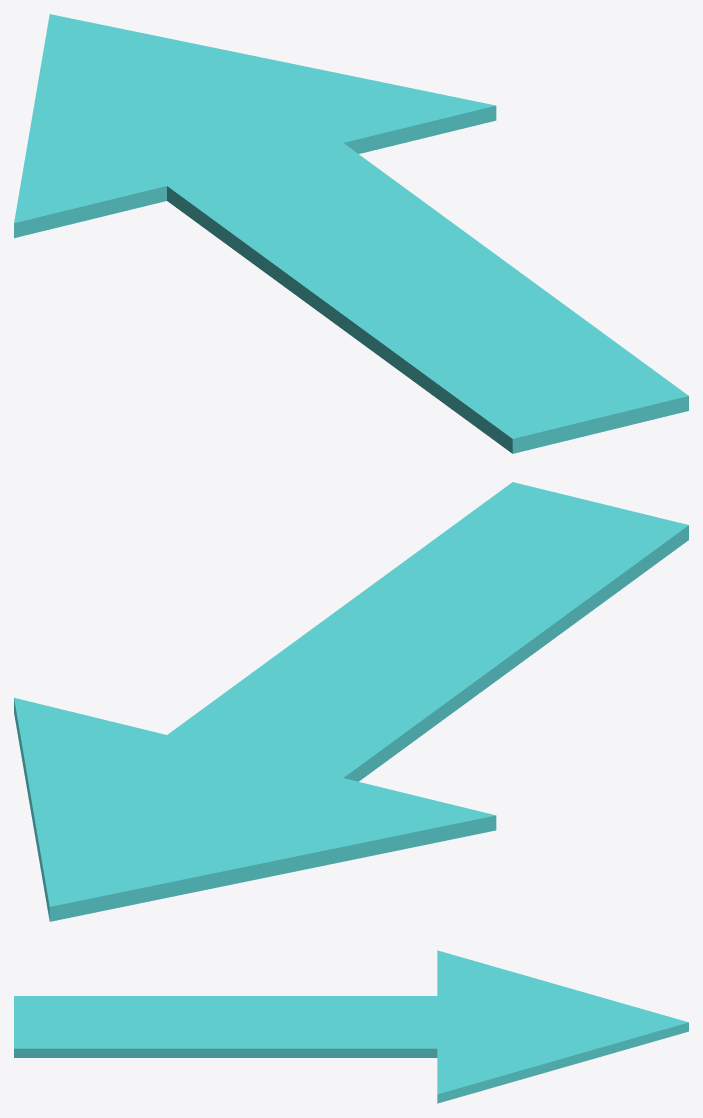
The model's file is OutputArrow.fbx.
3 views of the same model, one above another, from view 1: azimuth 30°, elevation 25°; view 2: azimuth 150°, elevation 25°; view 3: azimuth 270°, elevation 25° (orthographic). The views are drawn at different scales.
Visible parts, largest first — view 1: Arrow.001; view 2: Arrow.001; view 3: Arrow.001.
Boxes of the visible parts, x1=… form: Arrow.001: x1=14, y1=14, x2=688, y2=453; Arrow.001: x1=14, y1=482, x2=688, y2=921; Arrow.001: x1=14, y1=950, x2=688, y2=1103.
Size of the model in its own units: 1.58 by 0.0468 by 3.12.
